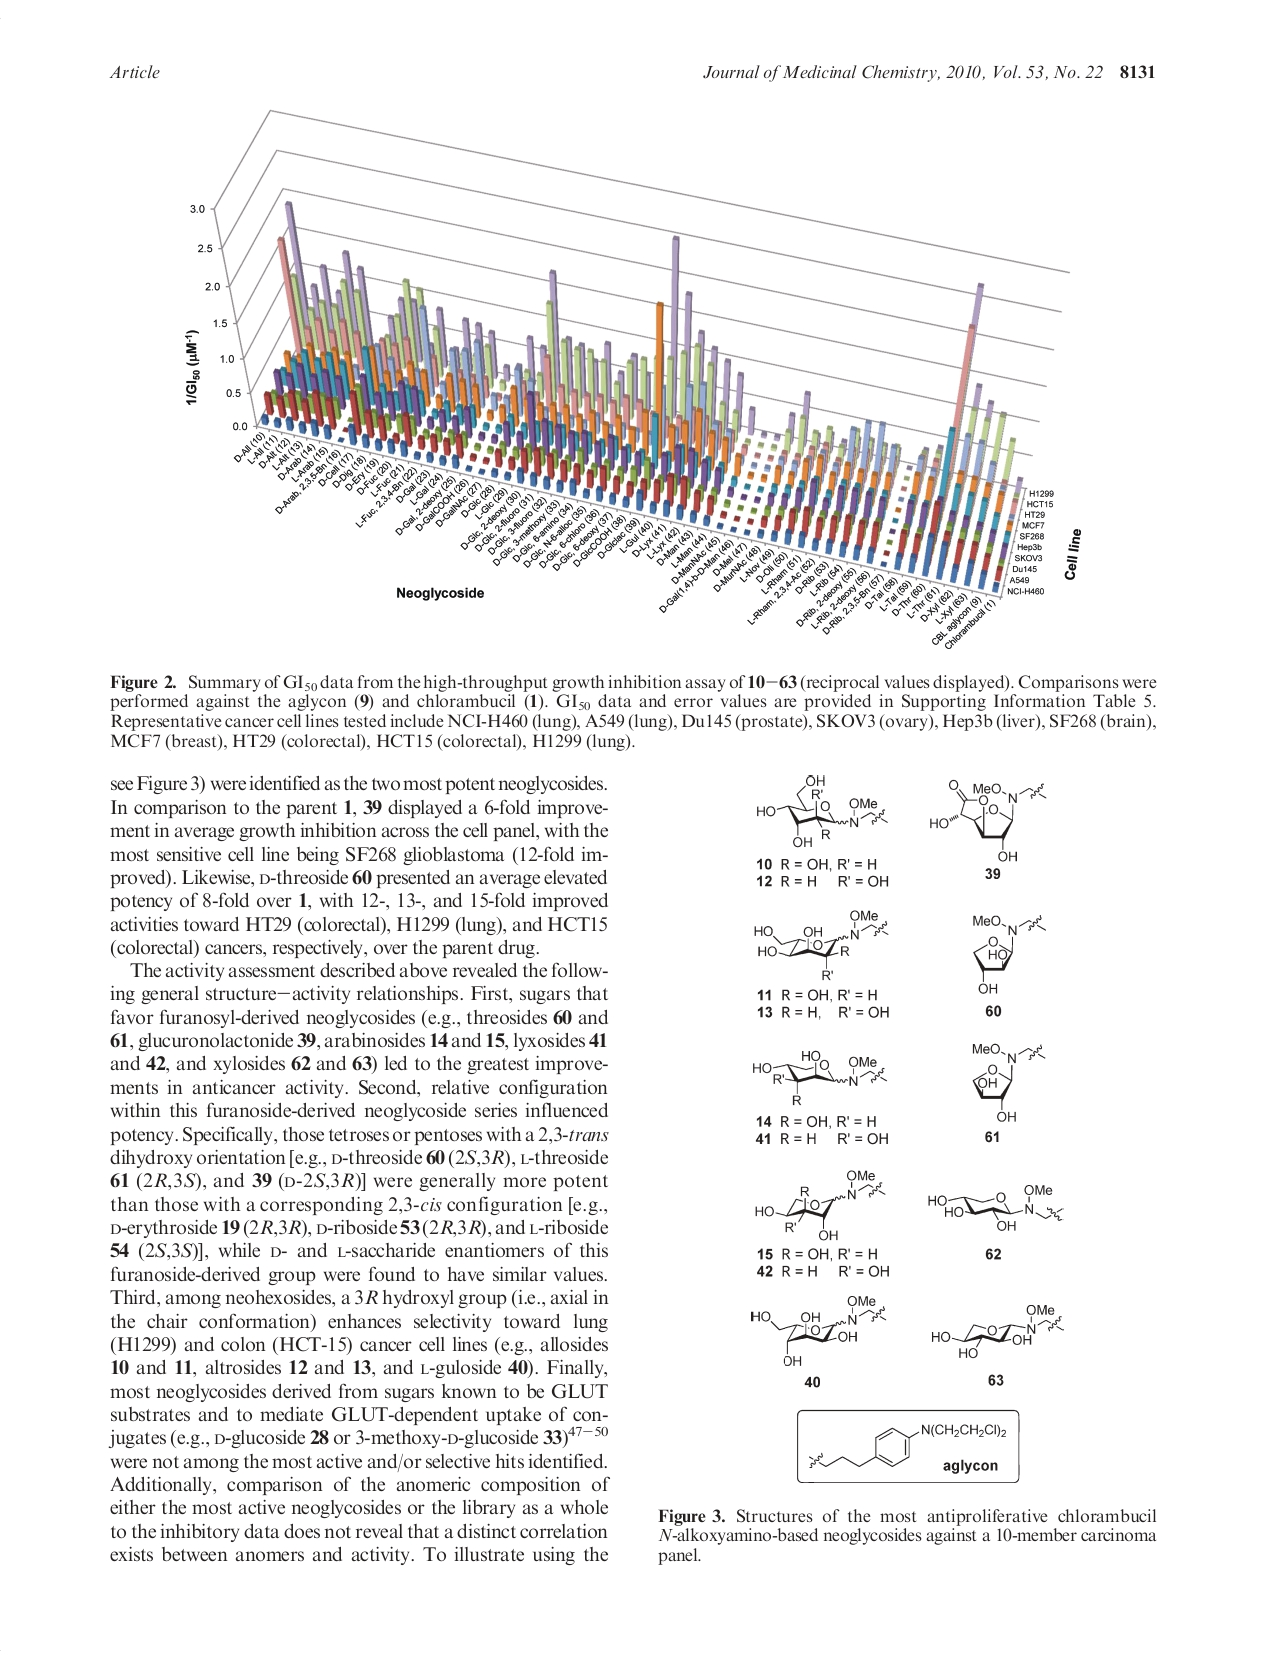exist_molecular: (805, 1422, 1009, 1472), (753, 908, 892, 981), (928, 778, 1048, 863), (750, 1295, 888, 1368), (755, 773, 890, 847), (754, 1168, 886, 1241), (751, 1047, 890, 1106), (930, 1302, 1065, 1359), (926, 1184, 1065, 1231), (969, 911, 1048, 996), (969, 1040, 1048, 1122)
